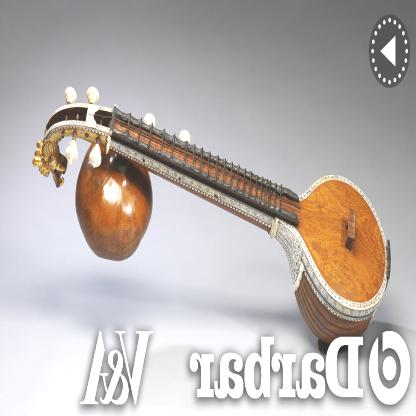Veena: (112, 116, 402, 330)
